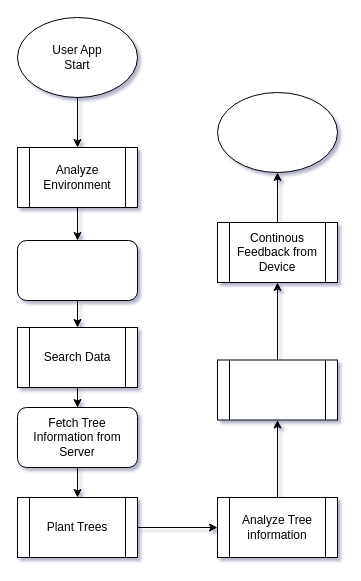
The diagram is 361 pixels wide and 581 high, and some of its shapes have lost their labels. The shapes that lost their labels are listed below. From the top down, each one's box as (x1, y1, x2, y2) in pixels, then its label:
(216, 92, 338, 172): App Stop
(16, 240, 138, 300): Add Additional Information
(216, 359, 338, 420): Provide proper water & light through Device
